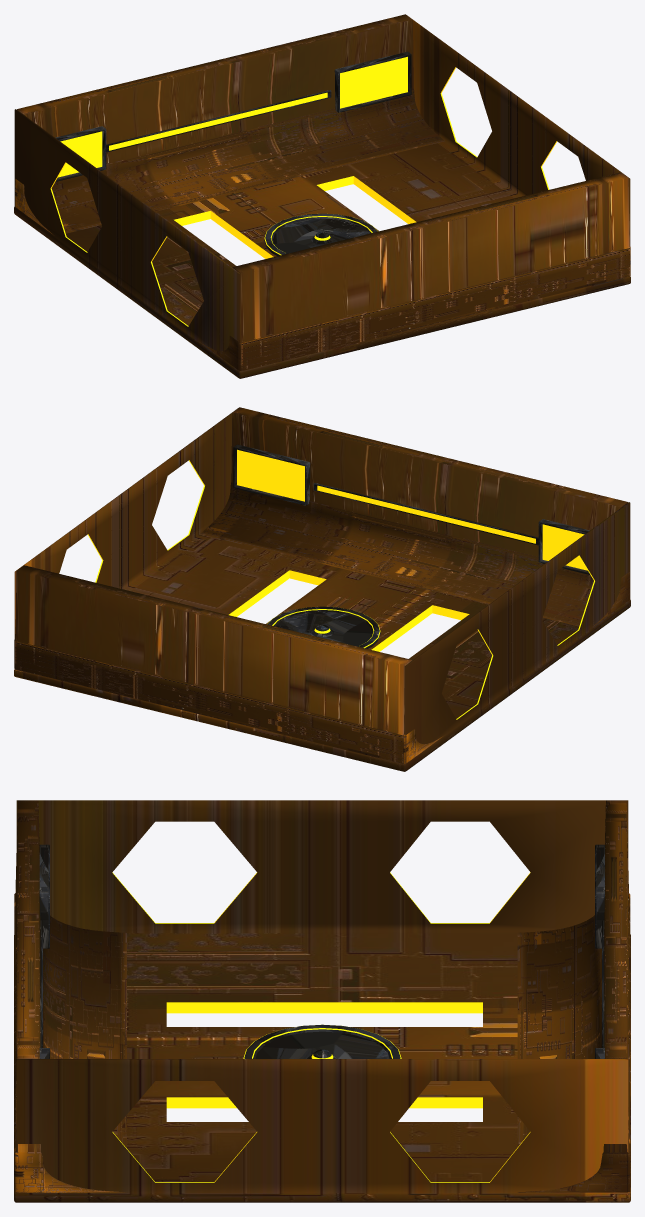
The model's file is floor.02.gltf.
3 renders of one model, top to bottom at view 1: azimuth 30°, elevation 25°; view 2: azimuth 150°, elevation 25°; view 3: azimuth 270°, elevation 25°, orthographic. The views are drawn at different scales.
Parts seen in each view (by area): view 1: Floor 2 Base; view 2: Floor 2 Base; view 3: Floor 2 Base.
Part boxes in pixels (left/top/right/bottom): Floor 2 Base: left=14, top=14, right=630, bottom=378; Floor 2 Base: left=14, top=407, right=630, bottom=771; Floor 2 Base: left=14, top=800, right=630, bottom=1202.
Size of what is drawn, in the model's own units: 46.54 by 11.98 by 46.52.
3 materials, 2 textured.
